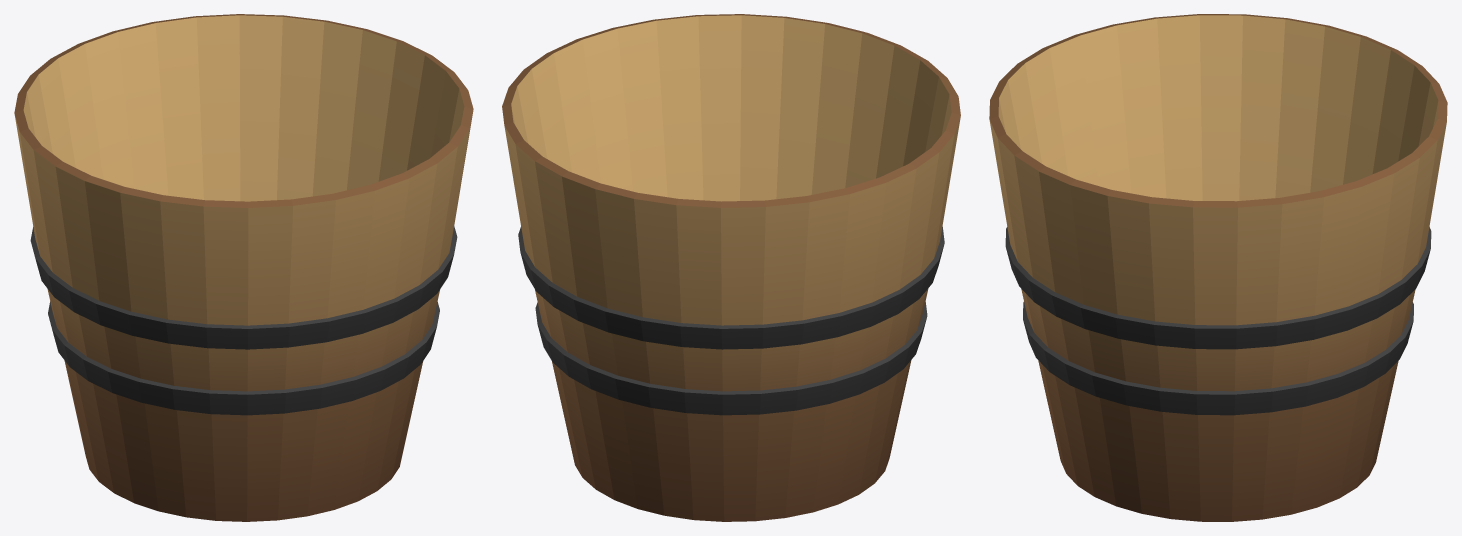
File: Small Light Wooden Bucket.fbx
The picture shows the model from 3 angles, left to right: view 1: azimuth 30°, elevation 25°; view 2: azimuth 150°, elevation 25°; view 3: azimuth 270°, elevation 25°; orthographic projection.
Parts seen in each view (by area): view 1: Small Light Wooden Bucket; view 2: Small Light Wooden Bucket; view 3: Small Light Wooden Bucket.
Boxes of the visible parts, <box> form: Small Light Wooden Bucket: <box>14,14,473,521</box>; Small Light Wooden Bucket: <box>502,14,960,521</box>; Small Light Wooden Bucket: <box>989,14,1447,521</box>.
Bounding box in the file's own units: 104 × 124 × 124.
Materials: 1 (1 with a texture image).
